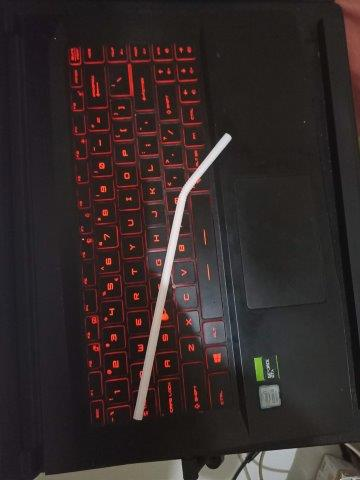sedotan: (133, 133, 232, 420)
